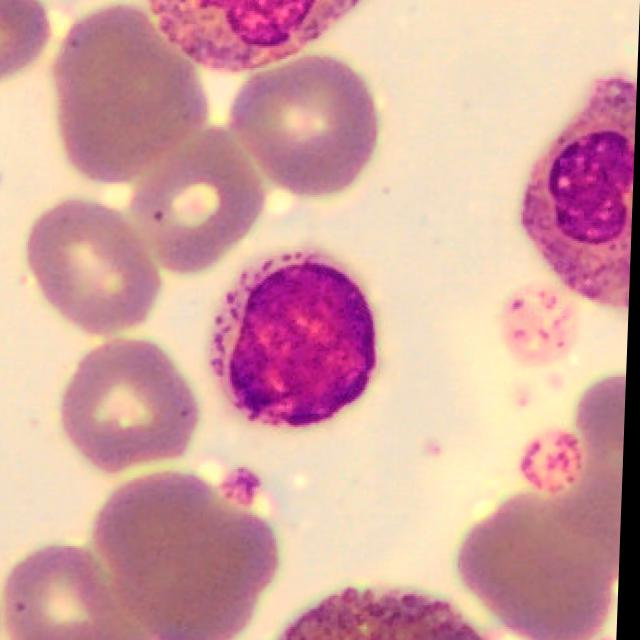Linfocito: (209, 244, 381, 435)
